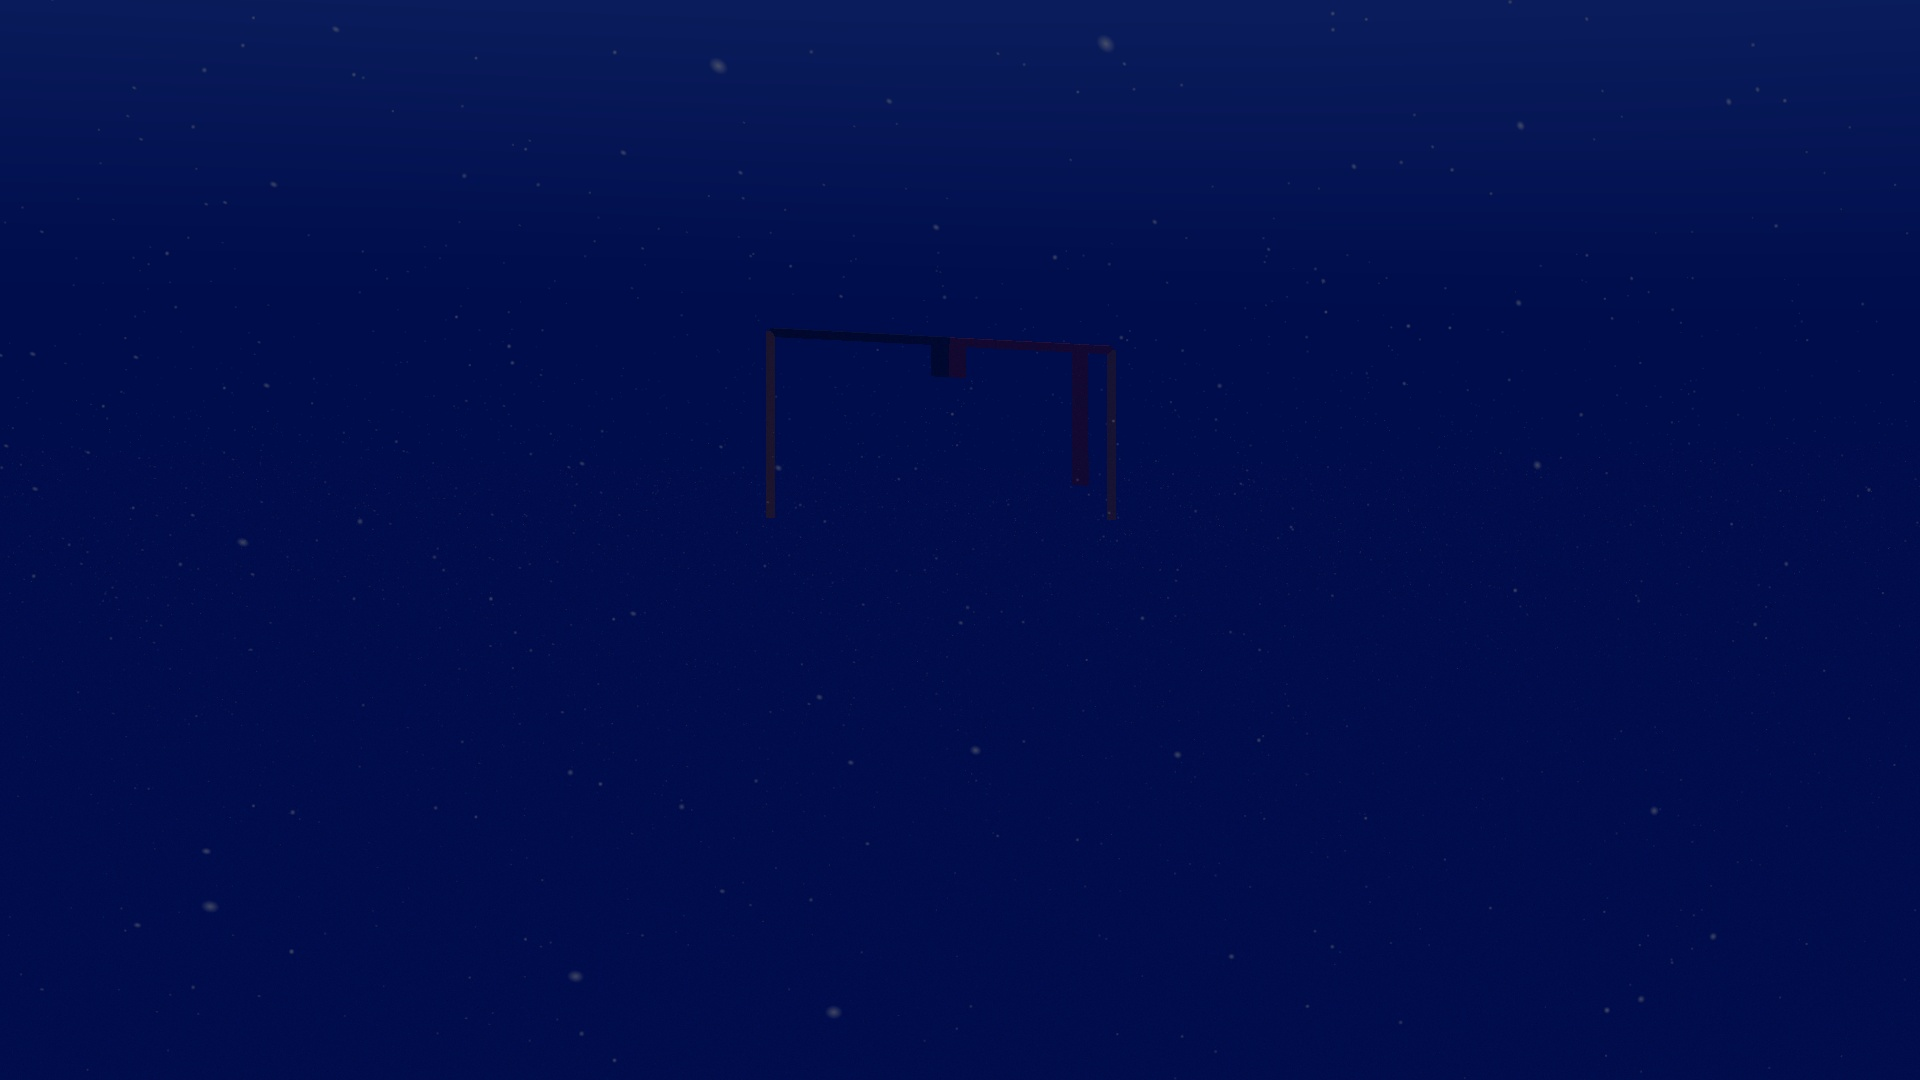Gate: (756, 320, 1129, 531)
